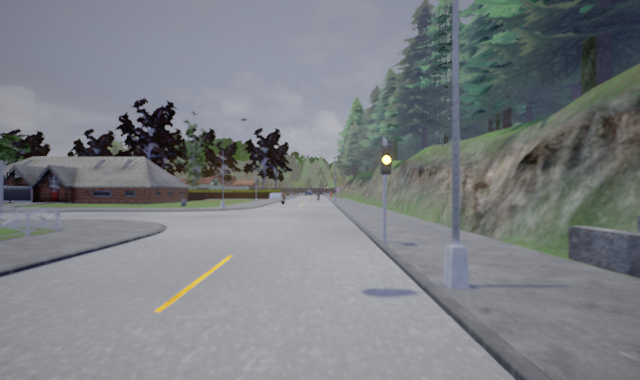traffic_light: (379, 145, 395, 176)
